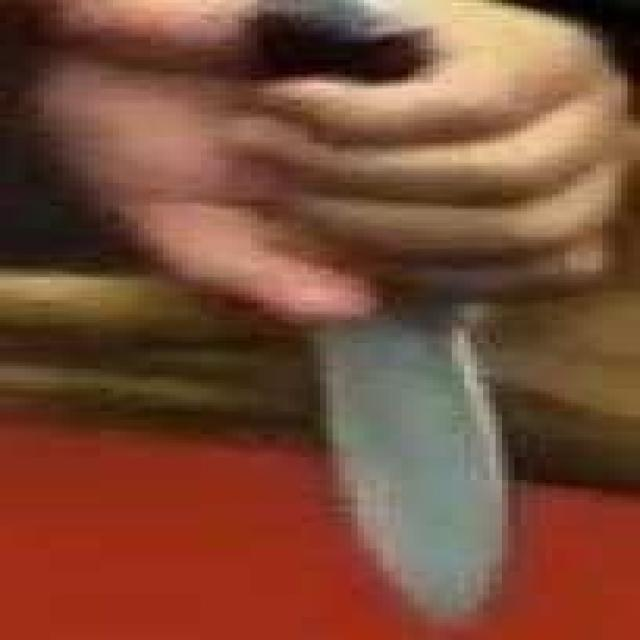knife: (220, 0, 520, 623)
